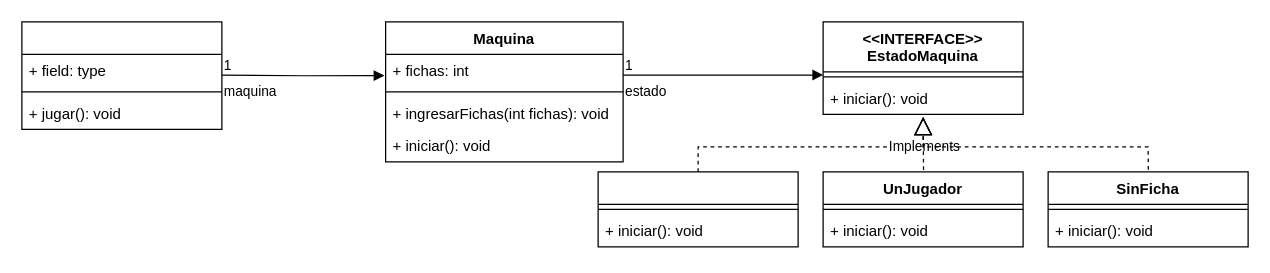
The diagram is 1270 pixels wide and 273 high, and some of its shapes have lost their labels. The shapes that lost their labels are listed below. From the top down, each one's box as (x1, y1, x2, y2) in pixels, then its label:
(21, 21, 222, 129): Juego
(597, 171, 798, 247): DosJugadores
